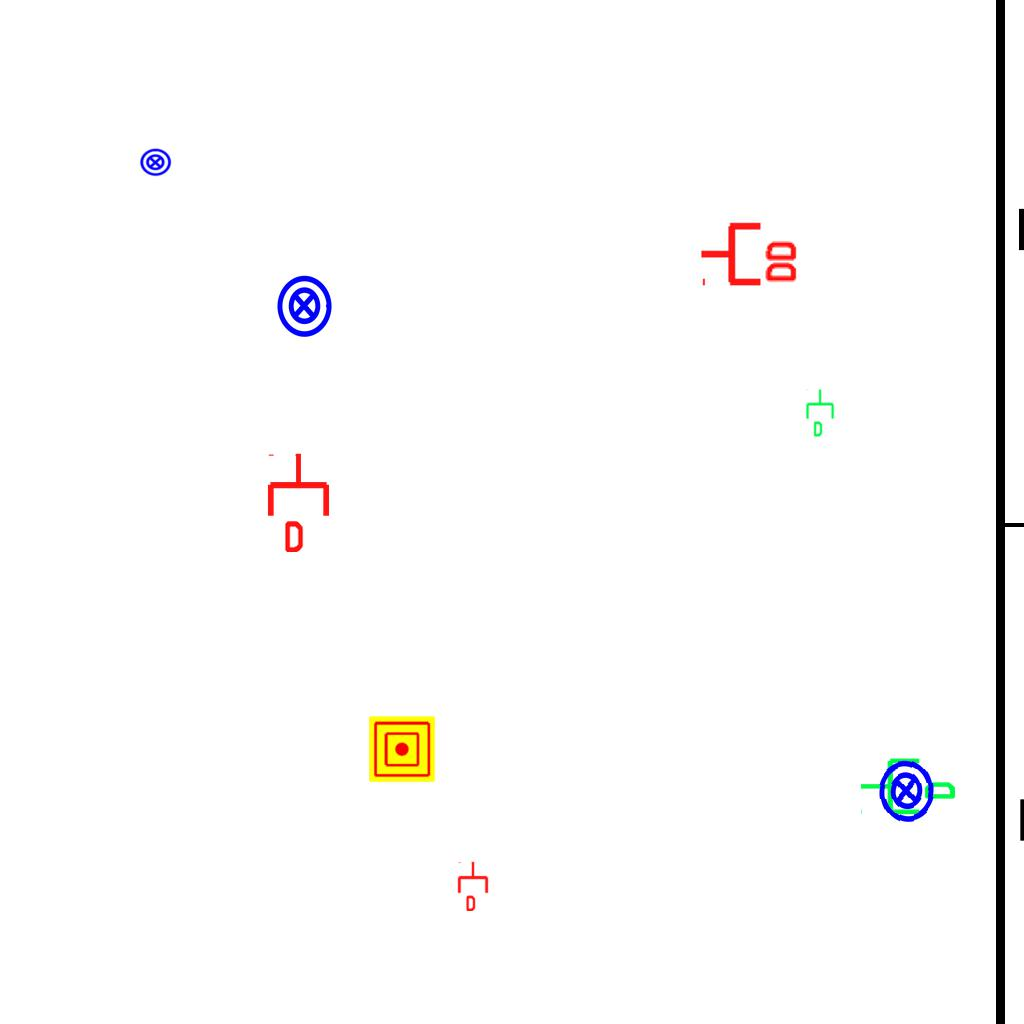Datenanschluss_einfach: (264, 452, 333, 552), (858, 750, 958, 819), (456, 861, 490, 911), (804, 388, 838, 438)
Datenanschluss_zweifach: (698, 218, 801, 287)
NAM-Nichtautomatischer_Melder: (369, 716, 435, 782)
Taster_beleuchtet: (870, 755, 942, 827), (271, 273, 337, 339), (139, 146, 172, 179)
